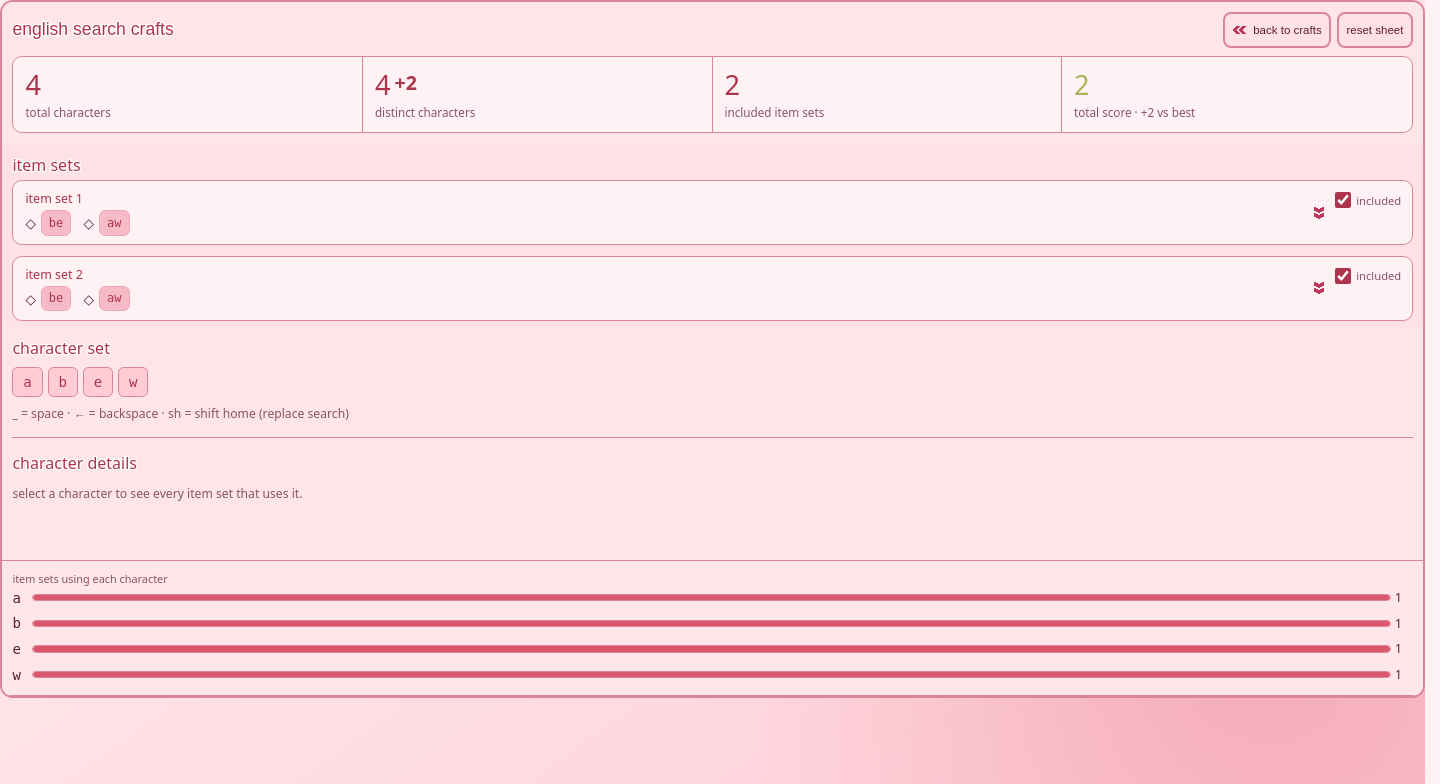
CraftingSheet › only mounts the expanded item editor in the page sheet
Click the button with aria-label "Expand item set 1" at (54, 198), box [24,188,1328,237]
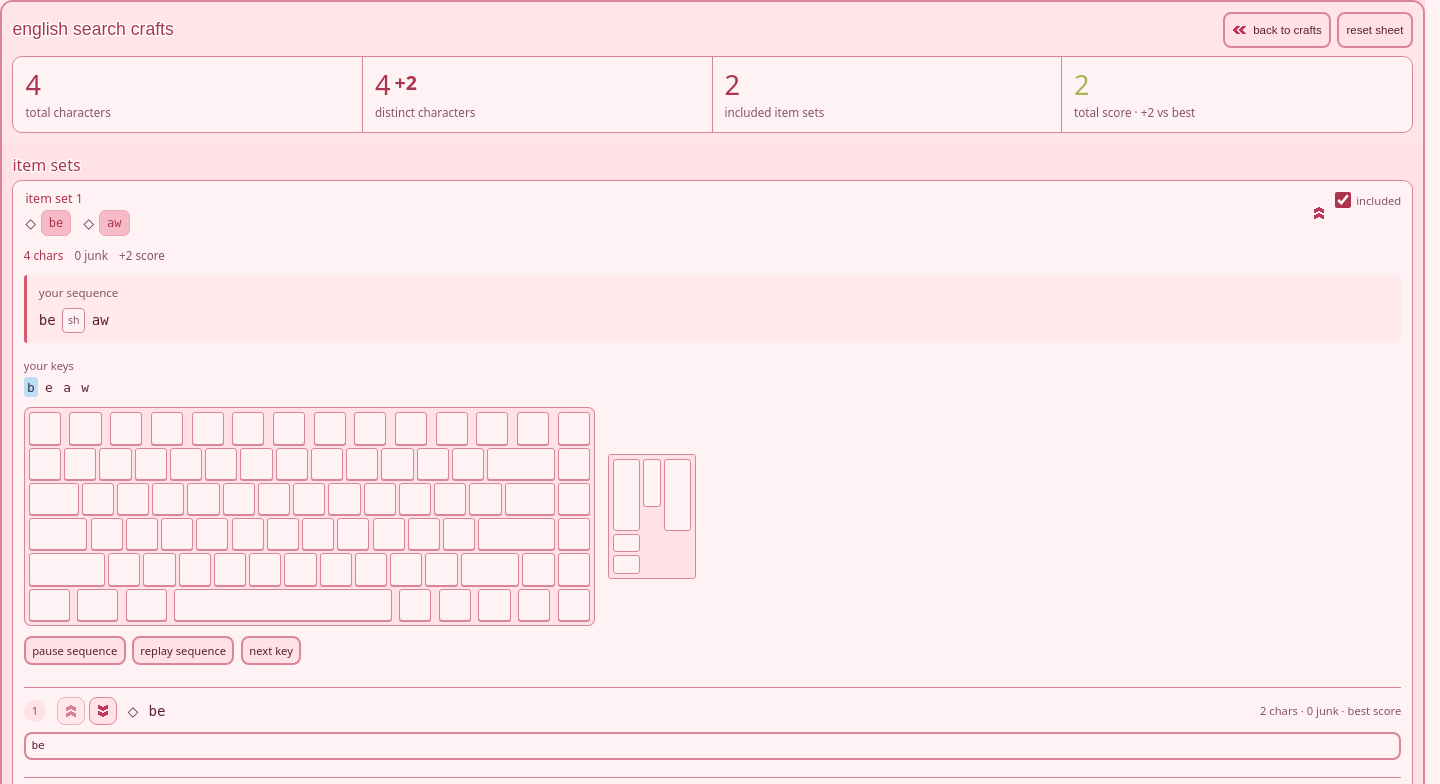
Focus the search field named "Craft query for bed" at (712, 746), box [24,732,1401,760]
(page scrolled)
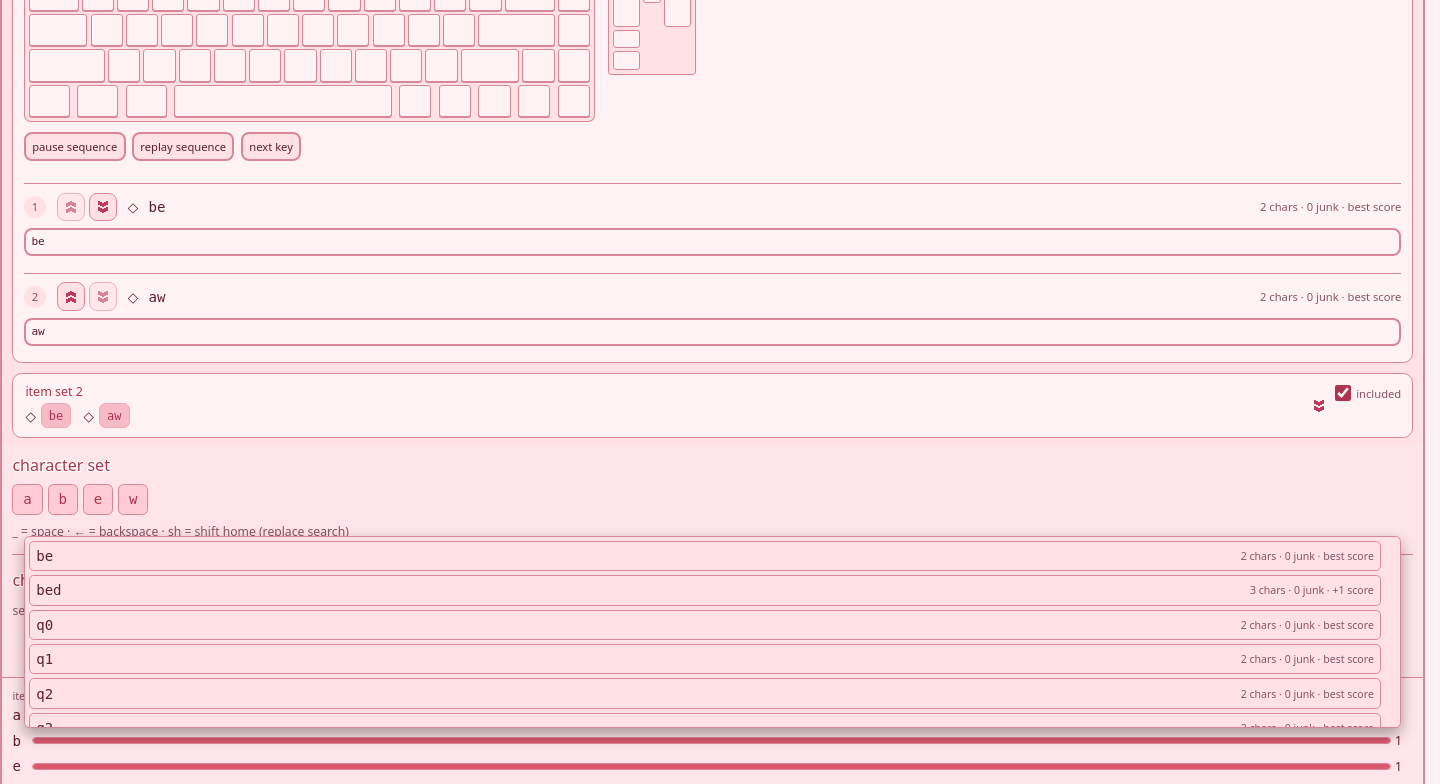
Click the button with aria-label "Expand item set 2" at (54, 391), box [24,381,1328,430]
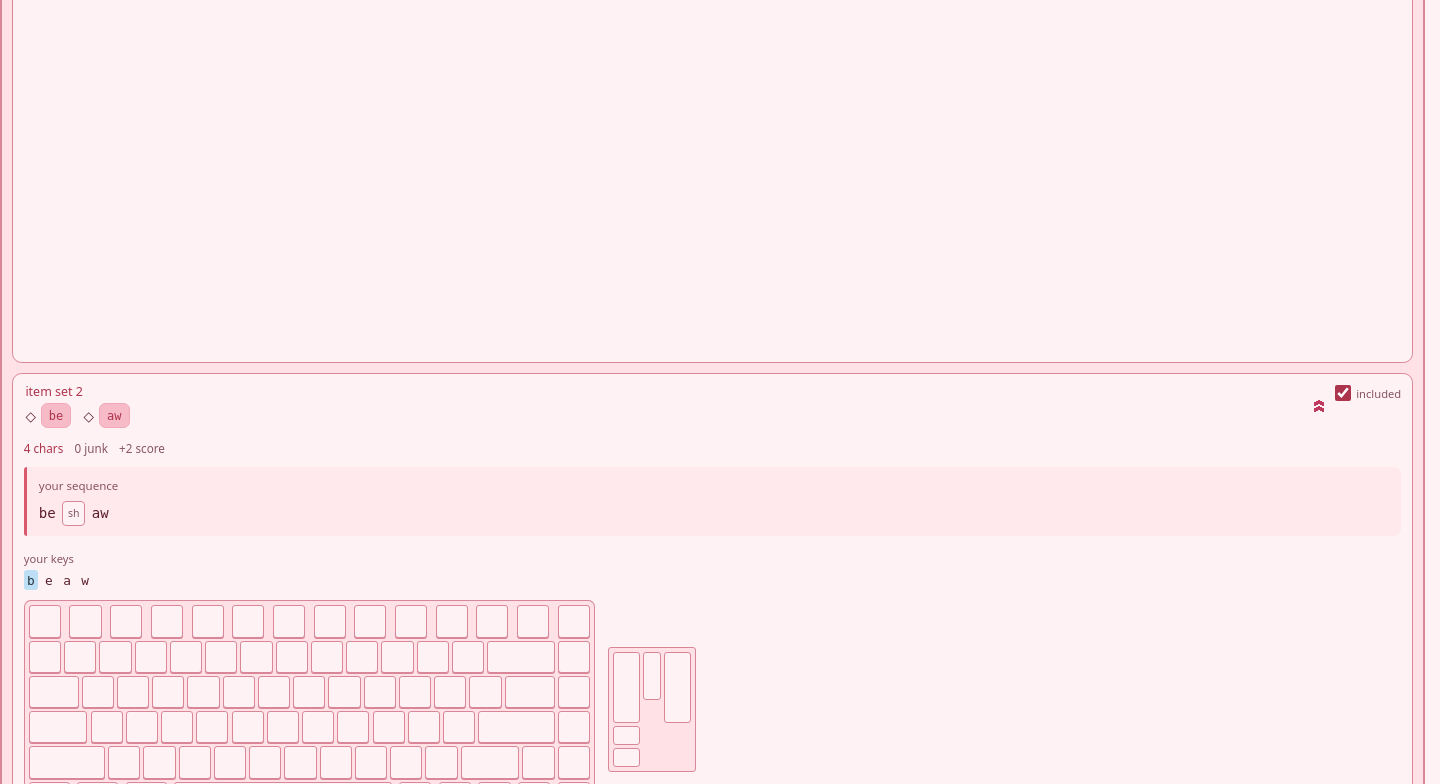
Now the button with aria-label "Collapse item set 2" is expanded, box [24,381,1328,430]
